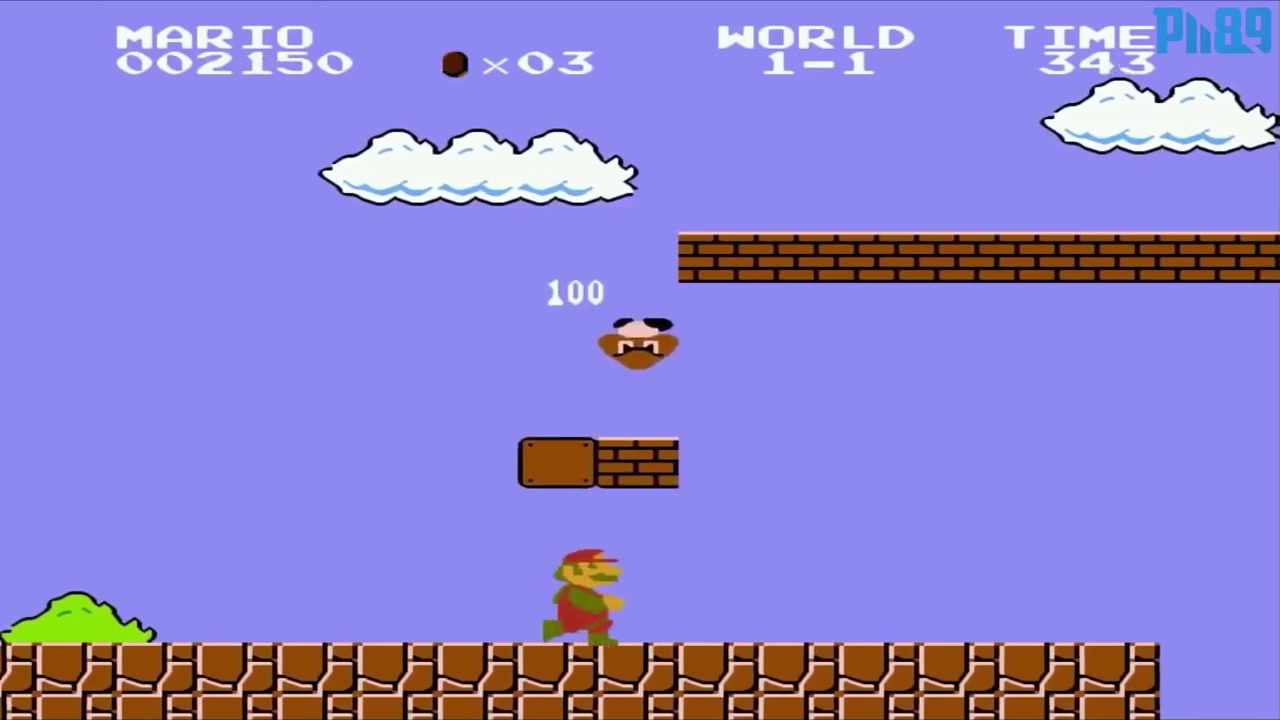mario: (544, 536, 635, 648)
